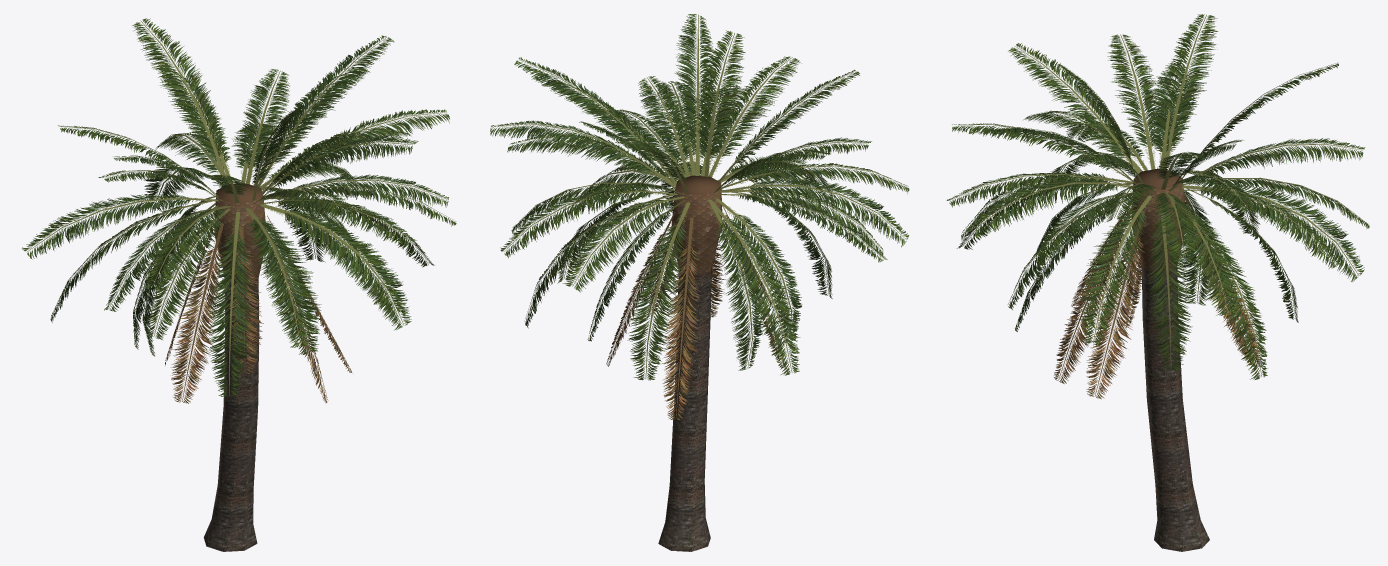
Rendered from SM_Morin_PalmaA_LOD2.fbx.
The picture shows the model from 3 angles, left to right: view 1: azimuth 30°, elevation 25°; view 2: azimuth 150°, elevation 25°; view 3: azimuth 270°, elevation 25°; orthographic projection. The views are drawn at different scales.
Visible parts, largest first — view 1: SM_Morin_PalmaA_LOD2; view 2: SM_Morin_PalmaA_LOD2; view 3: SM_Morin_PalmaA_LOD2.
Boxes of the visible parts, left/top/right/bottom form: SM_Morin_PalmaA_LOD2: left=22, top=18, right=456, bottom=551; SM_Morin_PalmaA_LOD2: left=490, top=14, right=909, bottom=551; SM_Morin_PalmaA_LOD2: left=946, top=14, right=1369, bottom=551.
Bounding box in the file's own units: 1028 × 969 × 1188.
2 materials, 2 textured.
